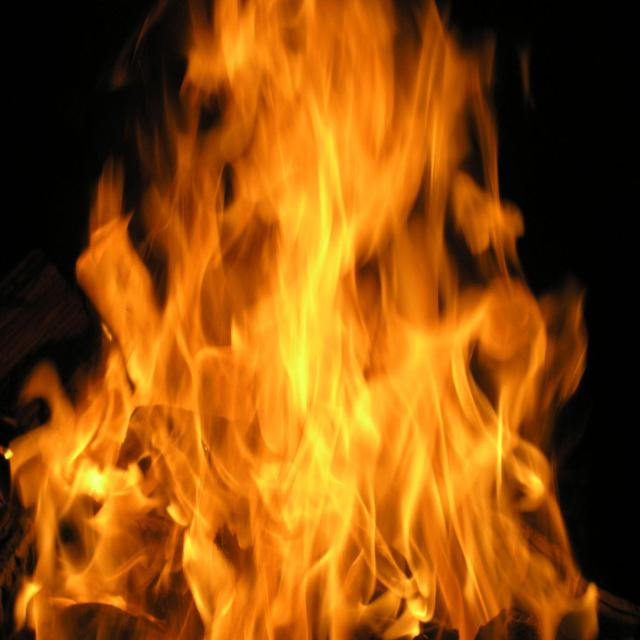fire: (16, 0, 640, 632)
